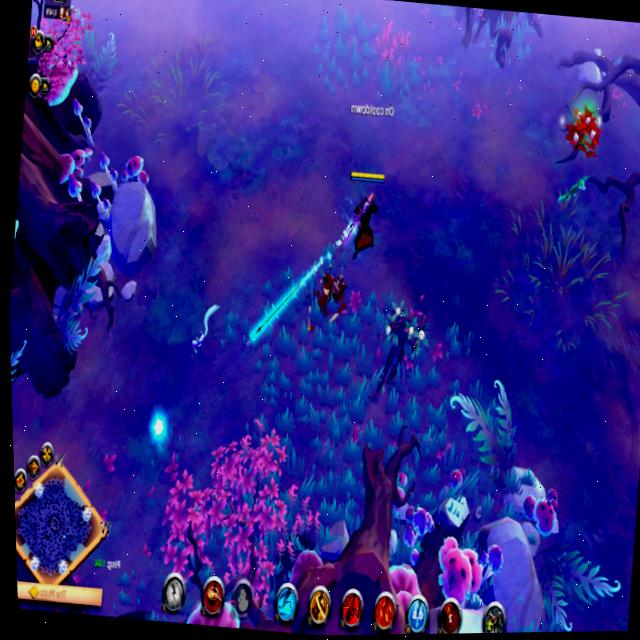hide: (559, 97, 608, 165)
ore: (362, 299, 435, 417)
red: (339, 161, 392, 267)
